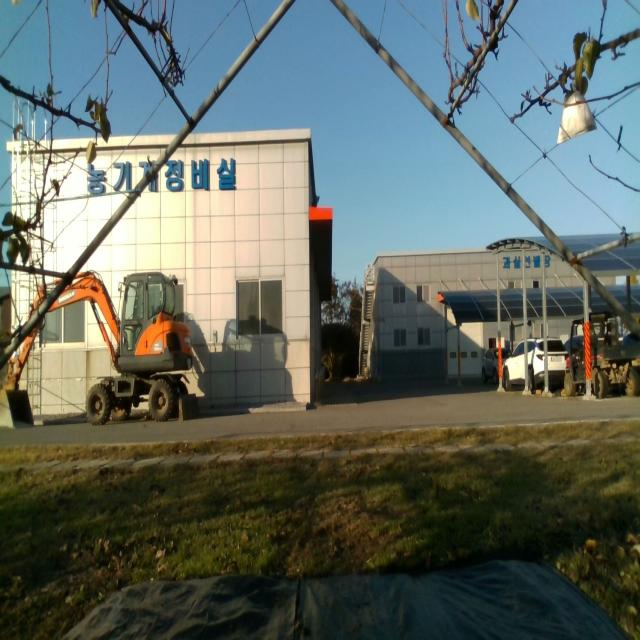pearbags: (557, 90, 598, 146)
